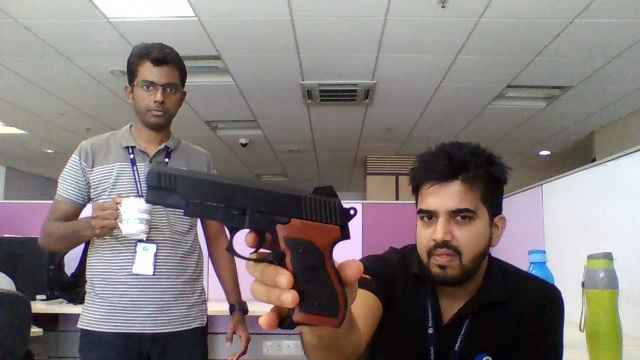gun: (143, 163, 358, 259)
